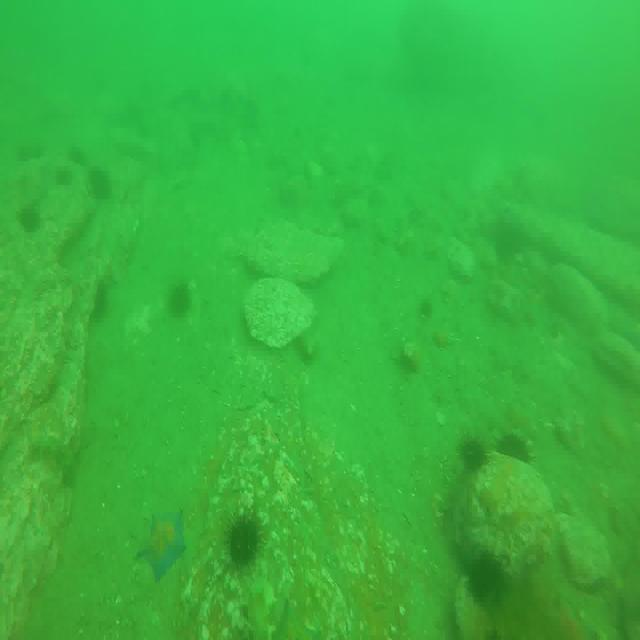echinus: (471, 545, 504, 600), (229, 517, 261, 566), (88, 161, 110, 203), (165, 286, 192, 320), (502, 438, 529, 469), (462, 434, 486, 468), (20, 203, 42, 236), (67, 146, 85, 169), (57, 165, 73, 189)
starfish: (139, 507, 186, 580), (536, 594, 599, 640)
